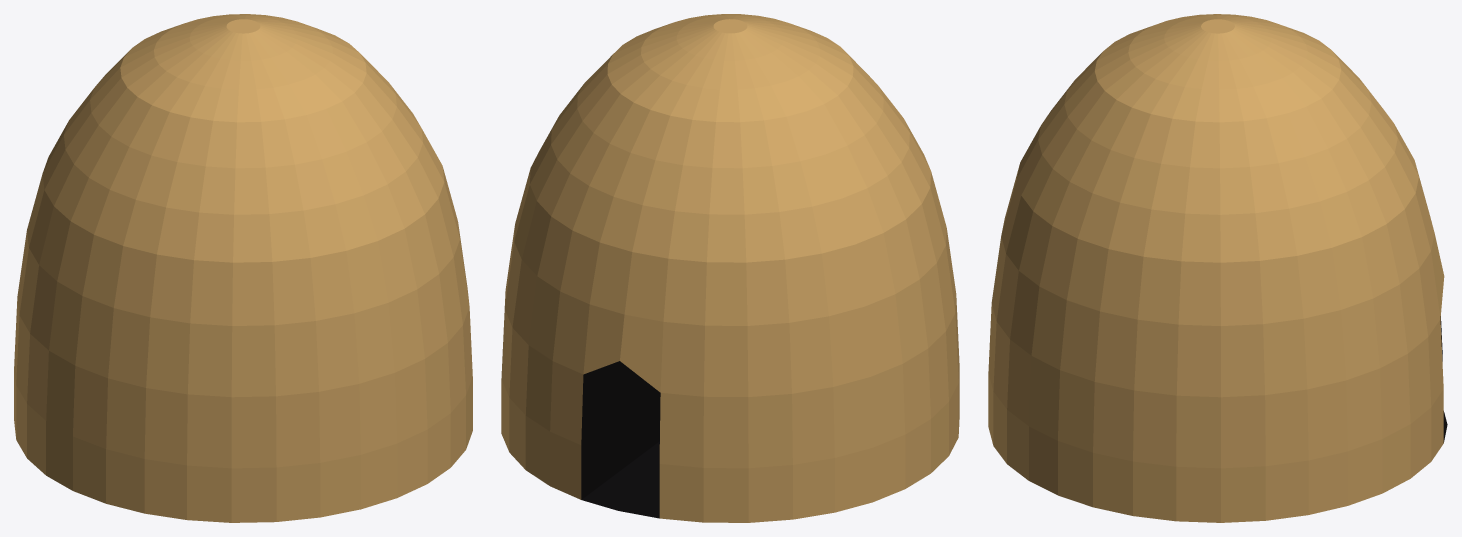
File: charcoal kiln.glb
The picture shows the model from 3 angles, left to right: view 1: azimuth 30°, elevation 25°; view 2: azimuth 150°, elevation 25°; view 3: azimuth 270°, elevation 25°; orthographic projection.
Visible parts, largest first — view 1: 円錐; view 2: 円錐; view 3: 円錐.
Boxes of the visible parts, x1,y1,x2,y2 form: 円錐: (14,14,472,522); 円錐: (501,14,959,522); 円錐: (988,14,1447,522).
Bounding box in the file's own units: 0.9493 × 0.9116 × 0.9493.
